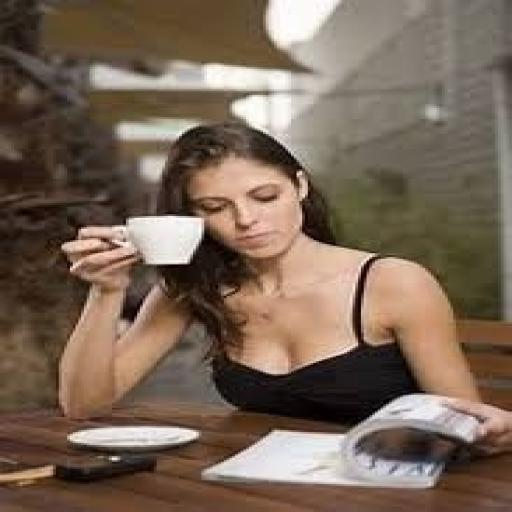drinking: (115, 214, 204, 266)
